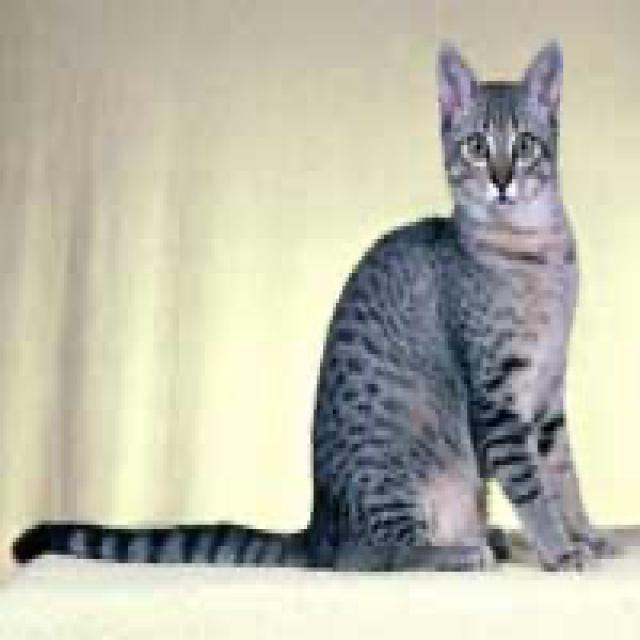cat: (435, 34, 560, 218)
